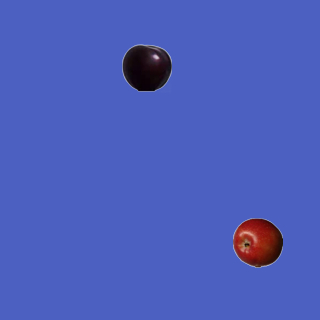Apple Braeburn: (232, 217, 282, 267)
Cherry Wax Black: (121, 42, 171, 92)
